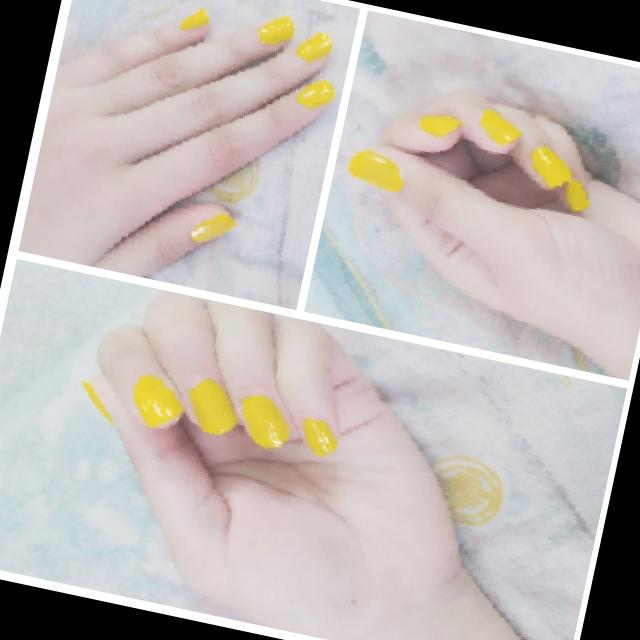Nail: (189, 377, 237, 434), (132, 373, 183, 426), (242, 394, 290, 448), (348, 148, 403, 191), (531, 146, 571, 187), (190, 210, 235, 242), (479, 109, 520, 144), (81, 380, 112, 424), (302, 417, 337, 455), (257, 13, 294, 44), (296, 79, 335, 108), (296, 32, 331, 62), (419, 113, 460, 137), (565, 178, 589, 210), (180, 7, 209, 29)
